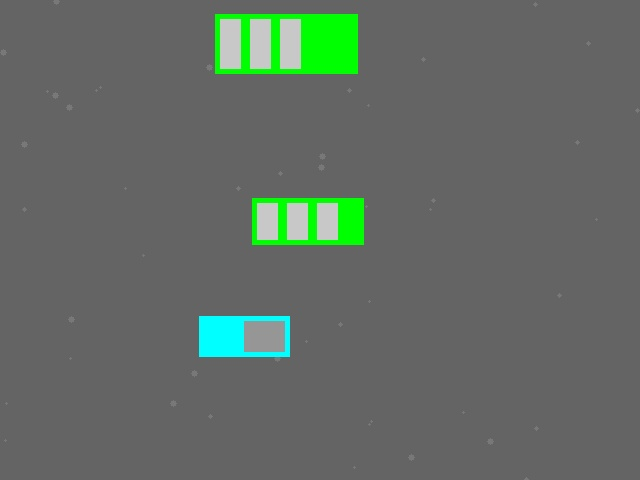bus: (215, 14, 357, 73), (252, 198, 363, 244)
truck: (199, 316, 289, 356)
